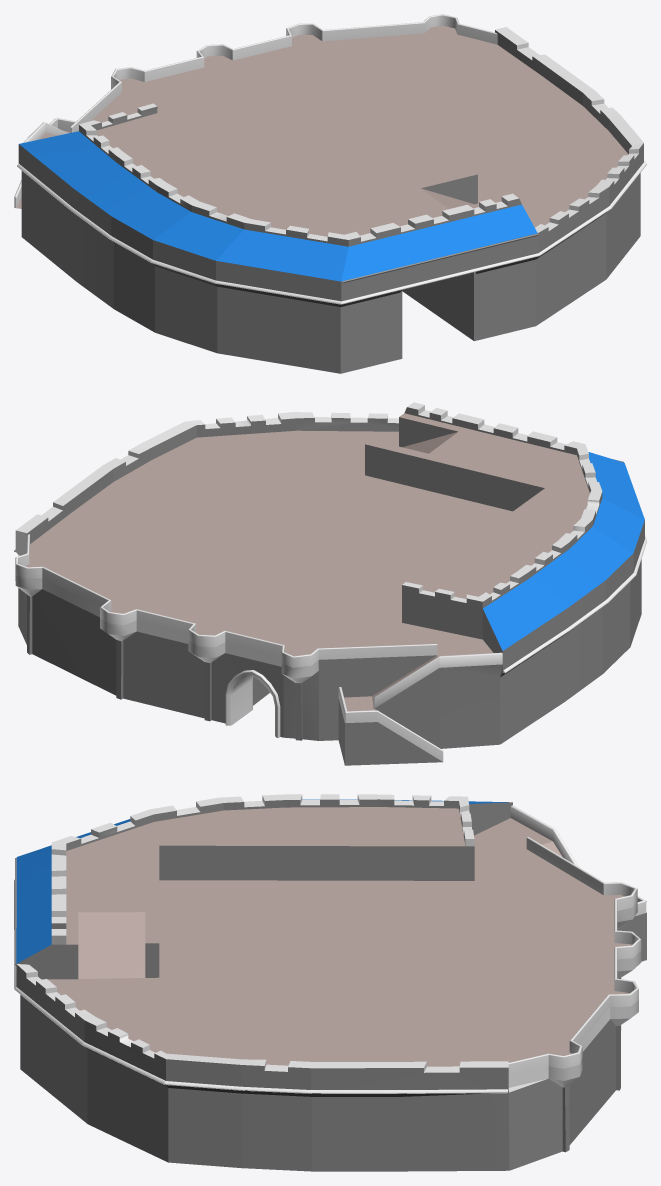
File: castle_004.gltf
3 renders of one model, top to bottom at view 1: azimuth 30°, elevation 25°; view 2: azimuth 150°, elevation 25°; view 3: azimuth 270°, elevation 25°, orthographic. The views are drawn at different scales.
Parts seen in each view (by area): view 1: castle_004; view 2: castle_004; view 3: castle_004.
Part boxes in pixels (x1,y1,x2,y2): castle_004: (14,14,646,373); castle_004: (14,402,646,765); castle_004: (14,794,646,1171).
Size of the model in its own units: 32.57 by 7.41 by 32.12.
1 material, 1 textured.
